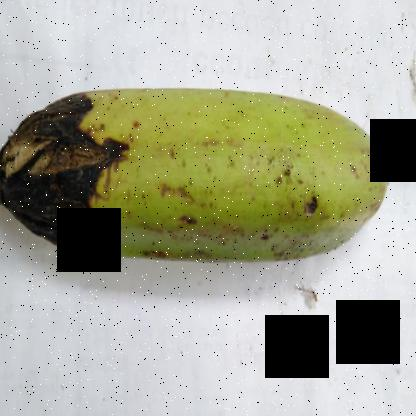rotten: (1, 73, 137, 283)
